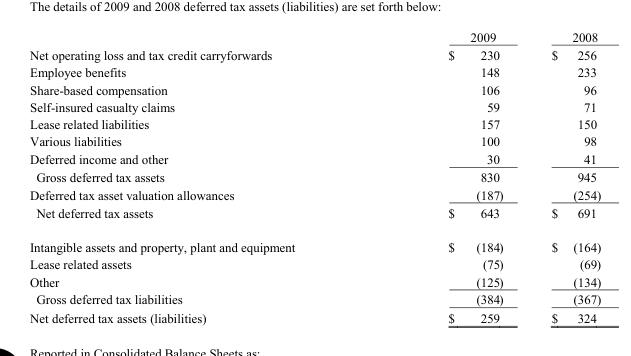table: (29, 29, 600, 324)
table column: (29, 29, 370, 324), (370, 29, 526, 324), (526, 29, 600, 324)
table column header: (29, 29, 600, 45)
table row: (29, 203, 600, 229), (29, 229, 600, 255), (29, 45, 600, 63), (29, 114, 600, 132), (29, 149, 600, 167), (29, 167, 600, 185), (29, 185, 600, 203), (29, 272, 600, 290), (29, 290, 600, 308), (29, 63, 600, 80), (29, 80, 600, 97), (29, 97, 600, 114), (29, 132, 600, 149), (29, 255, 600, 272), (29, 29, 600, 45), (29, 308, 600, 324)
